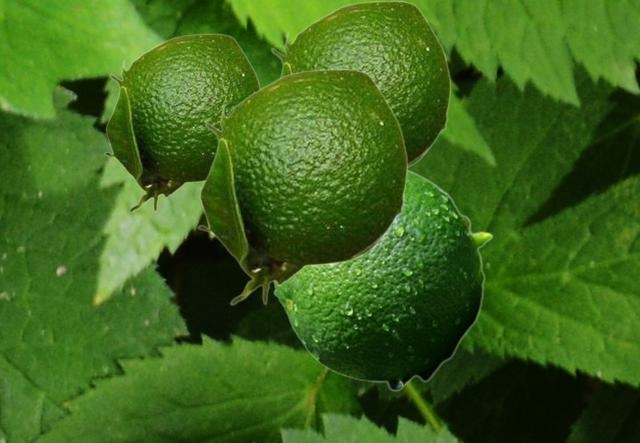dalandan: (196, 68, 407, 305), (271, 168, 492, 391), (270, 0, 450, 168), (103, 33, 260, 212)
